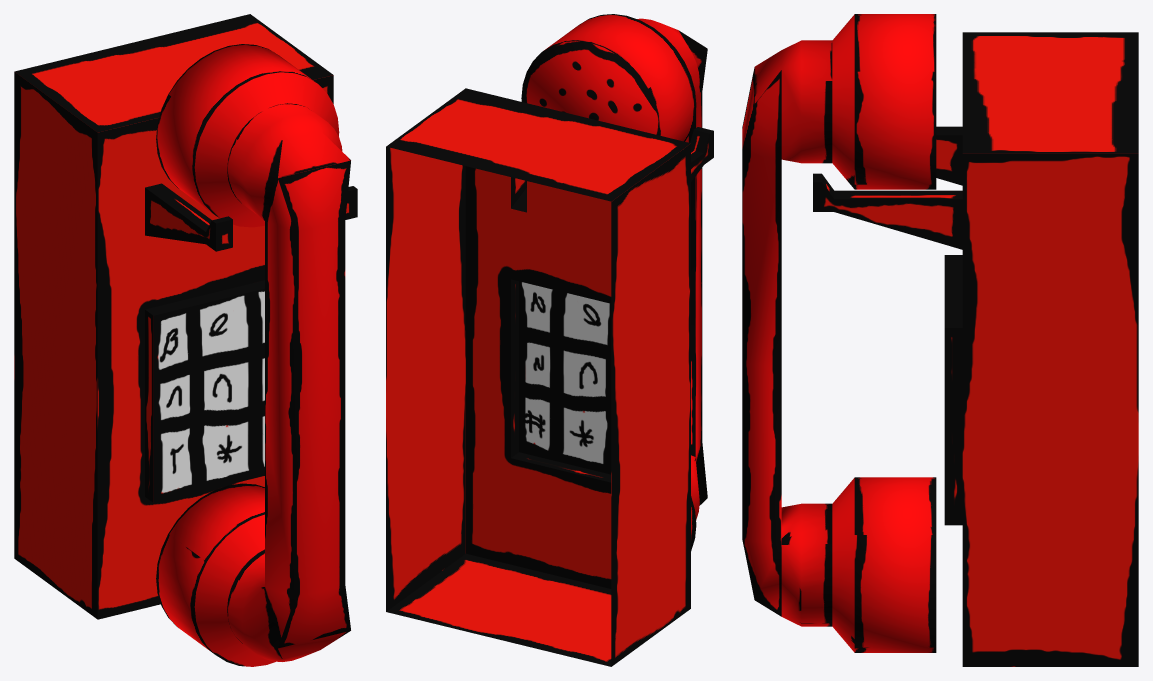
Rendered from Phone.fbx.
3 views of the same model, side by side, from view 1: azimuth 30°, elevation 25°; view 2: azimuth 150°, elevation 25°; view 3: azimuth 270°, elevation 25° (orthographic). The views are drawn at different scales.
Visible parts, largest first — view 1: Cube, Cylinder; view 2: Cube, Cylinder; view 3: Cube, Cylinder.
Boxes of the visible parts, box(x1,y1,x2,y2) form: Cube: box(14, 14, 357, 619); Cylinder: box(156, 44, 350, 666); Cube: box(386, 88, 713, 666); Cylinder: box(521, 14, 707, 550); Cube: box(813, 32, 1138, 666); Cylinder: box(742, 14, 936, 652).
Bounding box in the file's own units: 326 × 781 × 451.
2 materials, 2 textured.
